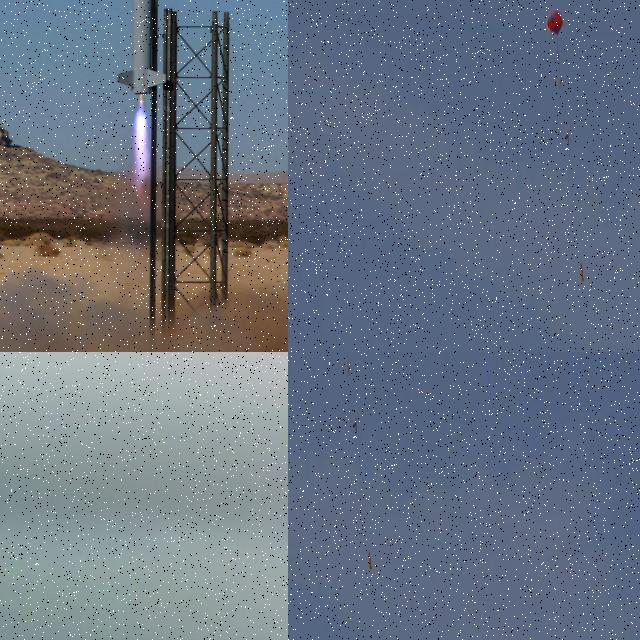Rocket: (114, 0, 168, 96), (580, 263, 585, 282), (368, 551, 373, 570)
